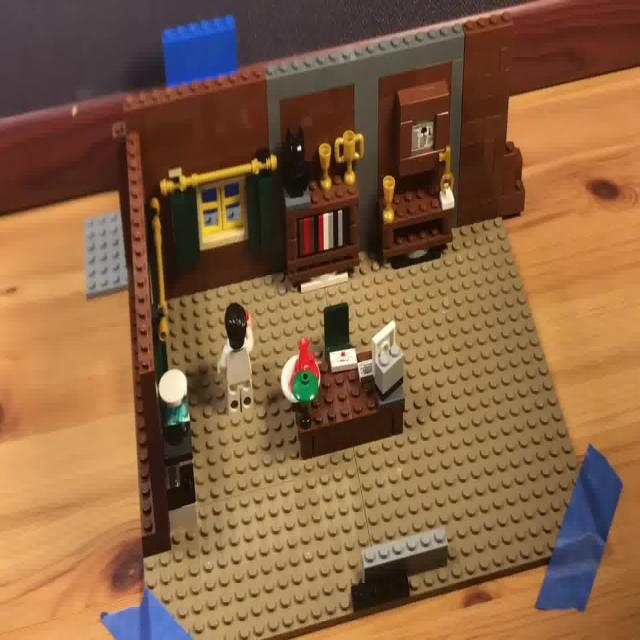brick: (160, 219, 591, 639), (281, 124, 310, 200)
figure: (137, 10, 523, 302), (121, 139, 169, 545), (292, 338, 411, 471), (281, 163, 372, 296), (360, 519, 453, 583), (383, 175, 453, 255), (163, 16, 237, 89), (81, 212, 132, 299)
hand: (216, 304, 253, 409)
